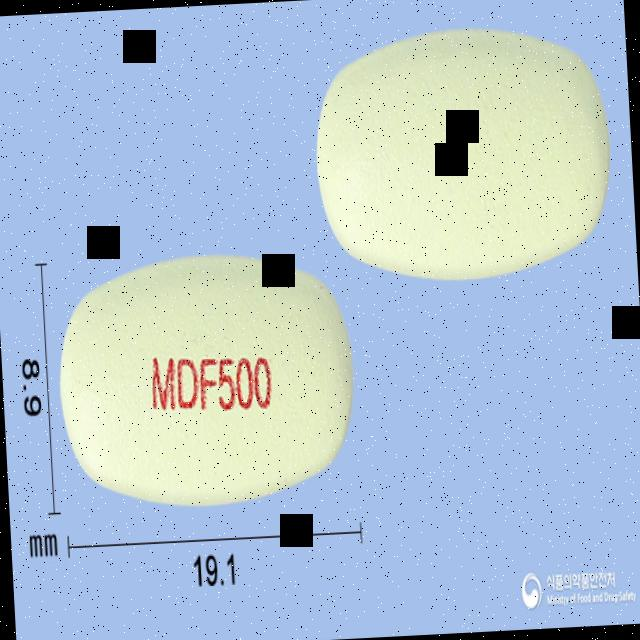Clarid: (50, 237, 362, 521)
